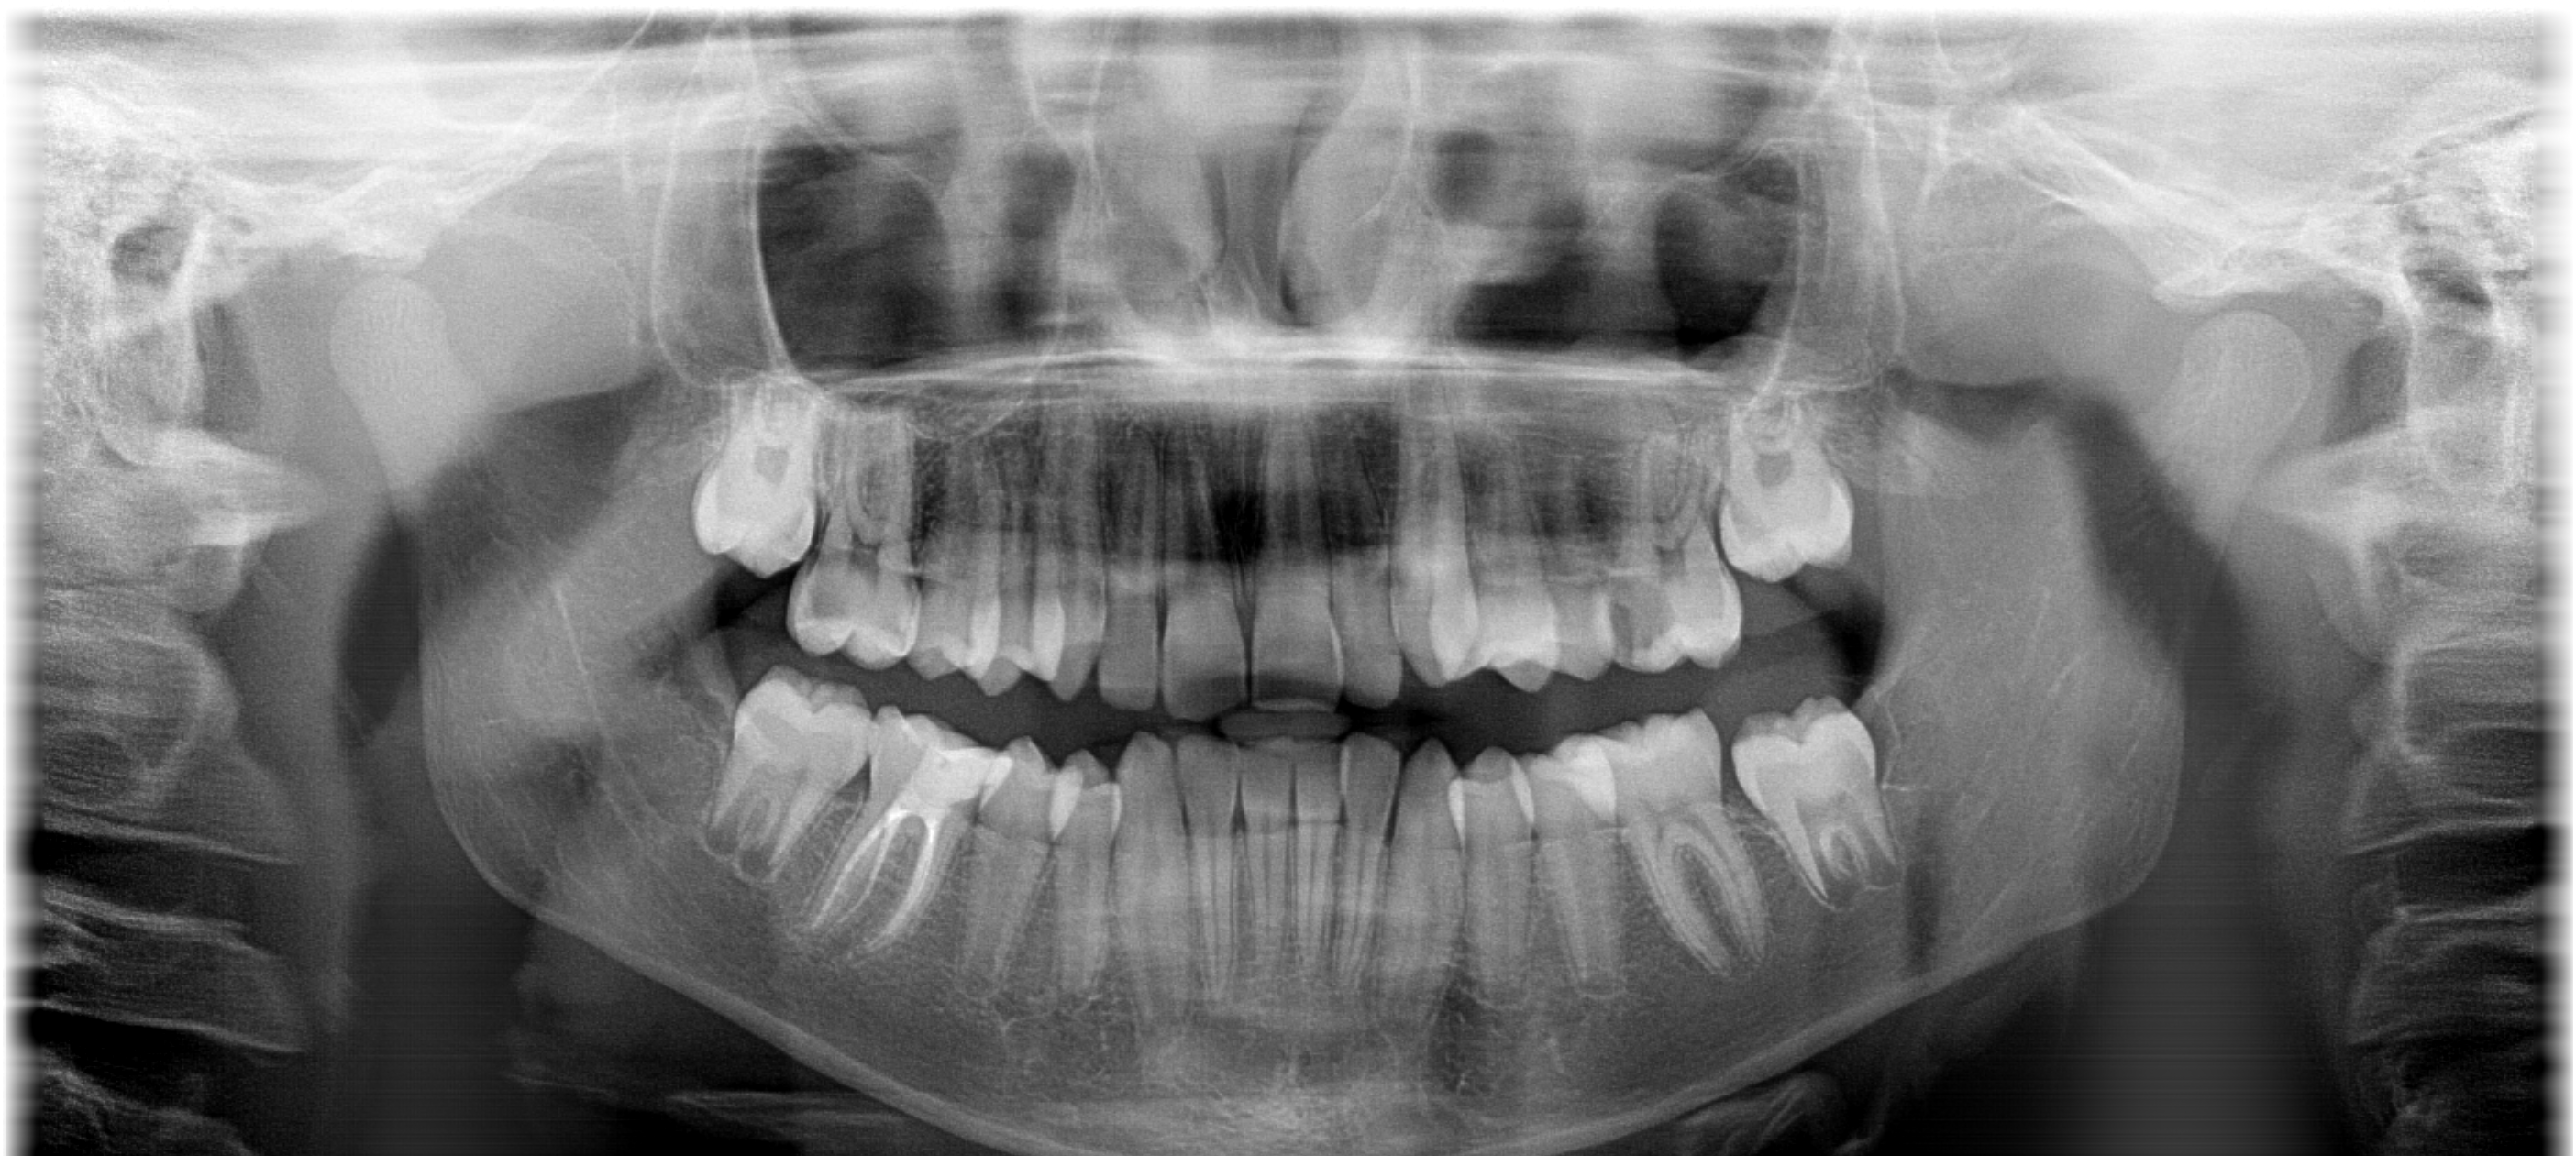cordal: (1700, 384, 1894, 591), (680, 363, 831, 591)
diente_rotado: (1385, 726, 1475, 1036), (1106, 729, 1196, 1039)
tratamiento_conducto: (818, 688, 1005, 974)
